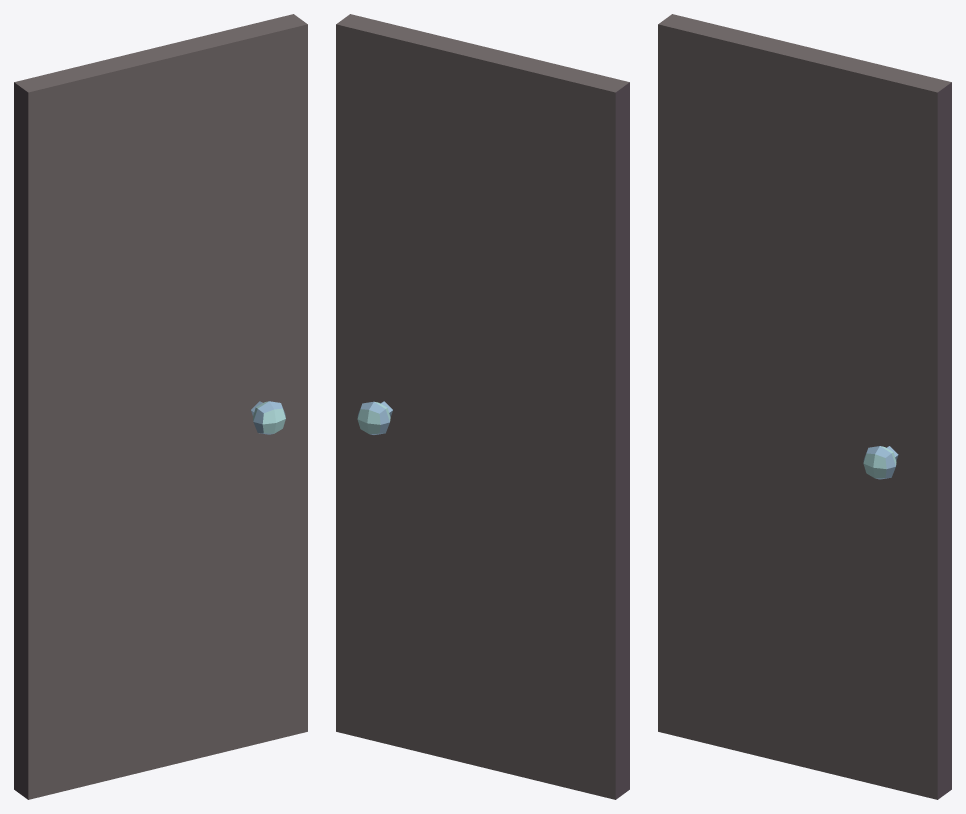
Rendered from Standard Door.fbx.
3 views of the same model, side by side, from view 1: azimuth 30°, elevation 25°; view 2: azimuth 150°, elevation 25°; view 3: azimuth 330°, elevation 25° (orthographic).
Visible parts, largest first — view 1: Standard Door; view 2: Standard Door; view 3: Standard Door.
Boxes of the visible parts, x1,y1,x2,y2 form: Standard Door: (14,14,307,799); Standard Door: (336,14,629,799); Standard Door: (658,14,951,799).
Bounding box in the file's own units: 187 × 453 × 55.15.
